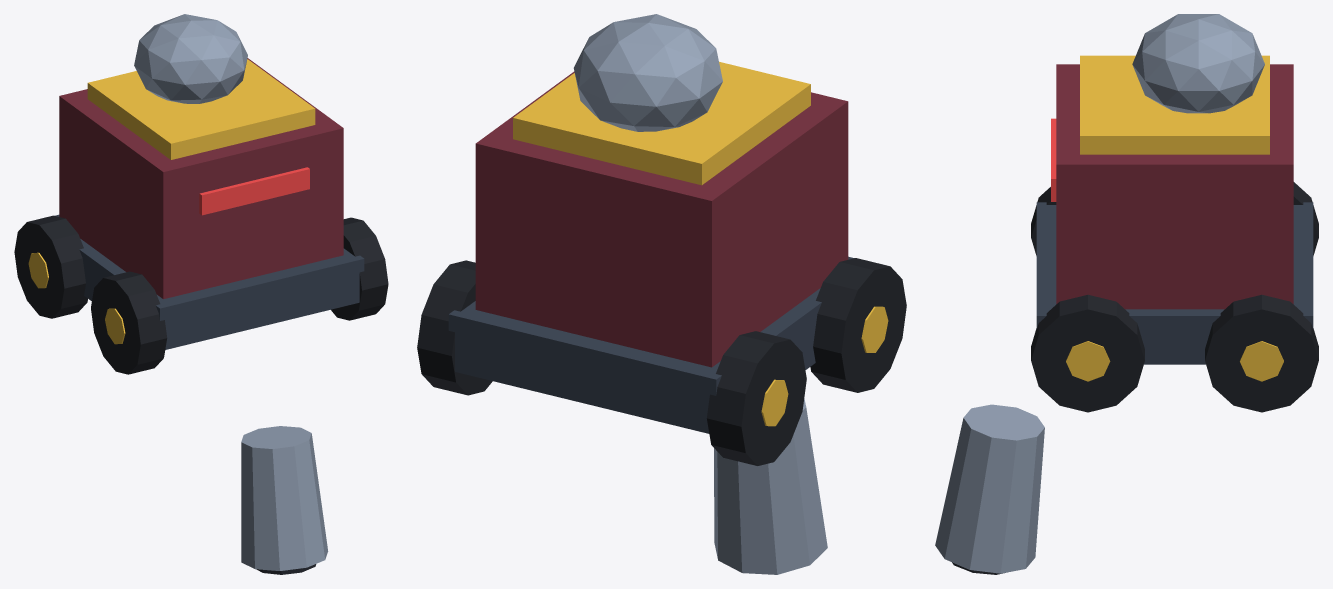
File: robot_boss.fbx
3 views of the same model, side by side, from view 1: azimuth 30°, elevation 25°; view 2: azimuth 150°, elevation 25°; view 3: azimuth 270°, elevation 25° (orthographic). The views are drawn at different scales.
Parts seen in each view (by area): view 1: Body, Cannon, Wheel2, Wheel4, Wheel1; view 2: Body, Cannon, Wheel4, Wheel2, Wheel3; view 3: Body, Cannon, Wheel1, Wheel3, Wheel4.
Boxes of the visible parts, <box> form: Body: <box>54,14,364,349</box>; Cannon: <box>241,426,328,574</box>; Wheel2: <box>91,271,167,374</box>; Wheel4: <box>14,215,87,318</box>; Wheel1: <box>331,217,388,320</box>; Body: <box>448,14,854,433</box>; Cannon: <box>714,399,827,574</box>; Wheel4: <box>706,331,806,465</box>; Wheel2: <box>810,258,906,392</box>; Wheel3: <box>417,260,492,395</box>; Body: <box>1036,14,1313,364</box>; Cannon: <box>935,404,1044,574</box>; Wheel1: <box>1031,294,1144,412</box>; Wheel3: <box>1205,294,1318,412</box>; Wheel4: <box>1293,182,1318,255</box>.
Size of the model in its own units: 2.08 by 3.79 by 2.43.
